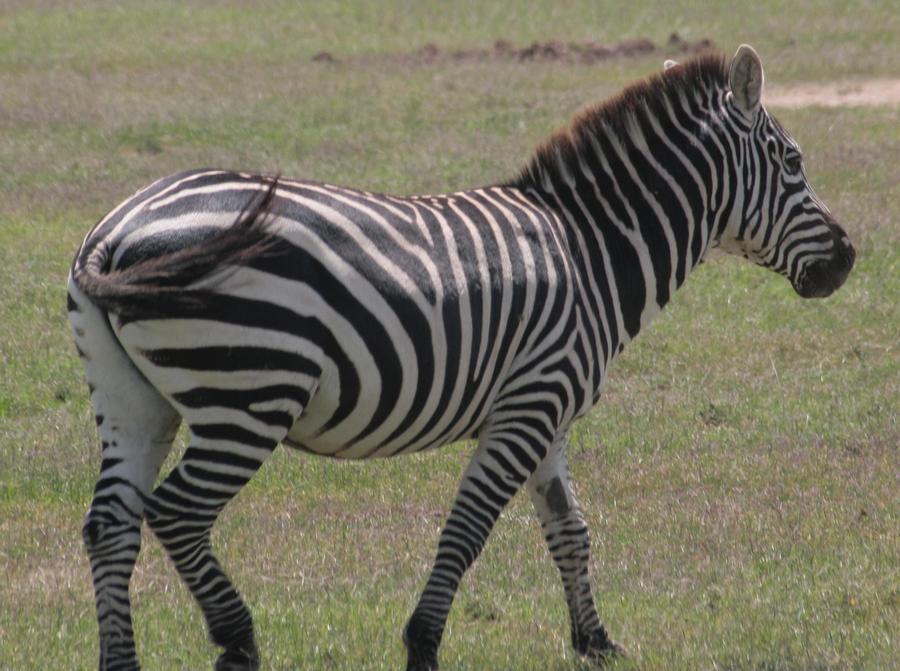zebra_plains: (171, 174, 606, 473)
